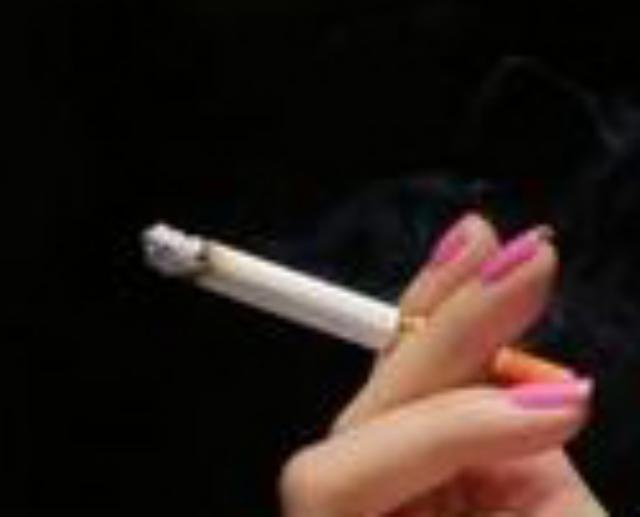Cigarette: (137, 219, 578, 403)
